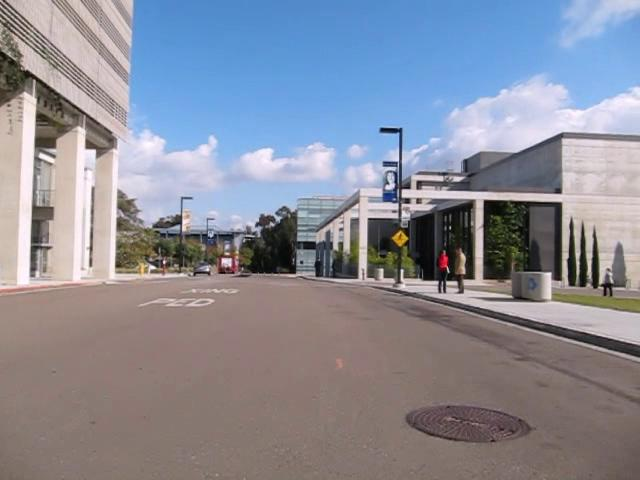pedestrianCrossing: (390, 228, 409, 248)
